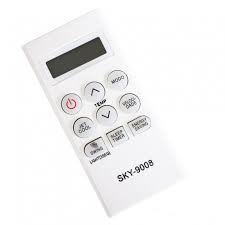remote control: (13, 13, 185, 214)
